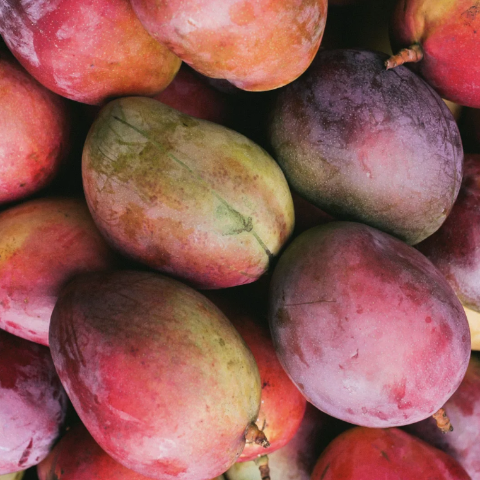mango: (22, 260, 285, 480), (267, 219, 477, 455), (54, 106, 320, 291), (258, 44, 475, 249)
